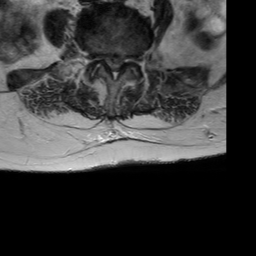CCS_normal: (111, 49, 118, 82)
LFS_stenosis: (126, 50, 133, 70)
LLS_stenosis: (118, 49, 125, 70)
RFS_stenosis: (95, 48, 104, 68)
RLS_stenosis: (104, 48, 112, 69)
